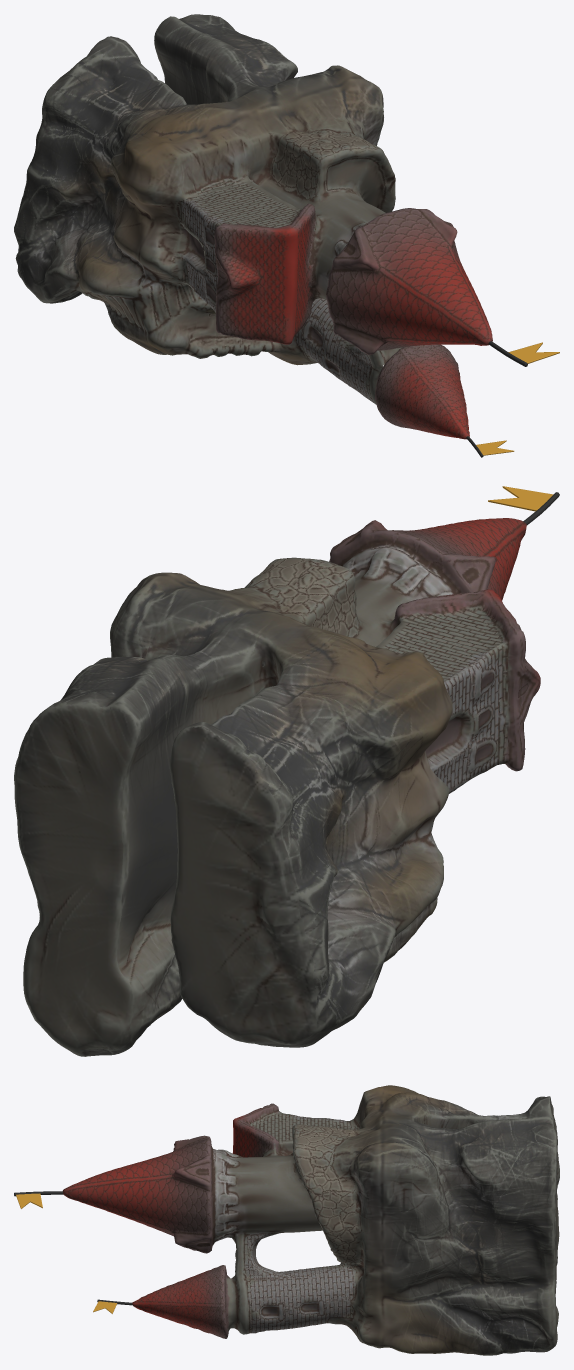
File: castle.draco.glb
3 renders of one model, top to bottom at view 1: azimuth 30°, elevation 25°; view 2: azimuth 150°, elevation 25°; view 3: azimuth 270°, elevation 25°, orthographic. The views are drawn at different scales.
Visible parts, largest first — view 1: 13020_Aquarium_Castle; view 2: 13020_Aquarium_Castle; view 3: 13020_Aquarium_Castle.
Boxes of the visible parts, <box> form: 13020_Aquarium_Castle: <box>14,14,559,457</box>; 13020_Aquarium_Castle: <box>14,486,559,1056</box>; 13020_Aquarium_Castle: <box>14,1085,559,1355</box>.
Bounding box in the file's own units: 8.75 × 9.21 × 20.27.
1 material, 1 textured.
